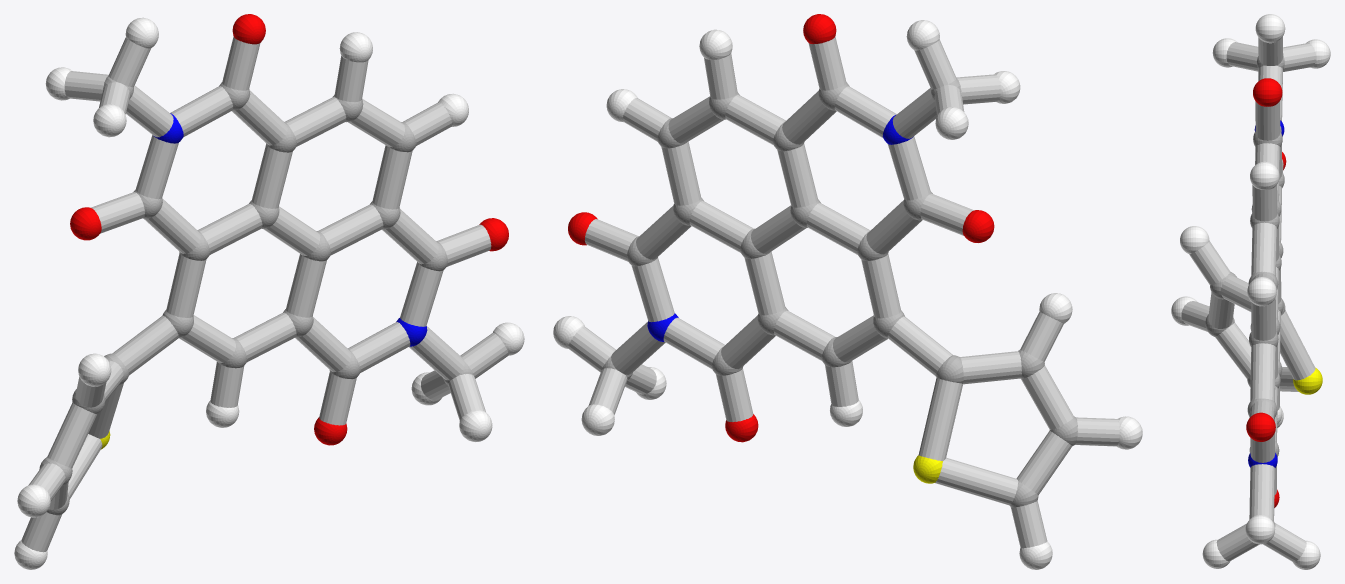
File: Dimethyl_Naphthalene_Dicarboximide_Phi_25_Theta_320_Thiophene.glb
3 renders of one model, left to right at view 1: azimuth 30°, elevation 25°; view 2: azimuth 150°, elevation 25°; view 3: azimuth 270°, elevation 25°, orthographic. The views are drawn at different scales.
Parts seen in each view (by area): view 1: grp14119, grp7241, grp1, grp12309, grp11585; view 2: grp14119, grp7241, grp1, grp12309, grp11585; view 3: grp14119, grp7241, grp1, grp12309, grp13757, grp11585.
Part boxes in pixels (left/top/right/bottom): grp14119: left=21, top=36, right=508, bottom=552; grp7241: left=14, top=17, right=524, bottom=569; grp1: left=39, top=76, right=473, bottom=515; grp12309: left=70, top=14, right=508, bottom=445; grp11585: left=153, top=113, right=427, bottom=346; grp14119: left=568, top=36, right=1119, bottom=548; grp7241: left=553, top=20, right=1142, bottom=569; grp1: left=602, top=78, right=1077, bottom=507; grp12309: left=568, top=14, right=994, bottom=442; grp11585: left=647, top=115, right=913, bottom=341; grp14119: left=1181, top=37, right=1316, bottom=562; grp7241: left=1171, top=14, right=1330, bottom=569; grp1: left=1205, top=56, right=1285, bottom=526; grp12309: left=1246, top=78, right=1286, bottom=507; grp13757: left=1293, top=367, right=1322, bottom=394; grp11585: left=1248, top=120, right=1284, bottom=467.
Size of the model in its own units: 11.31 by 10.34 by 3.23.
